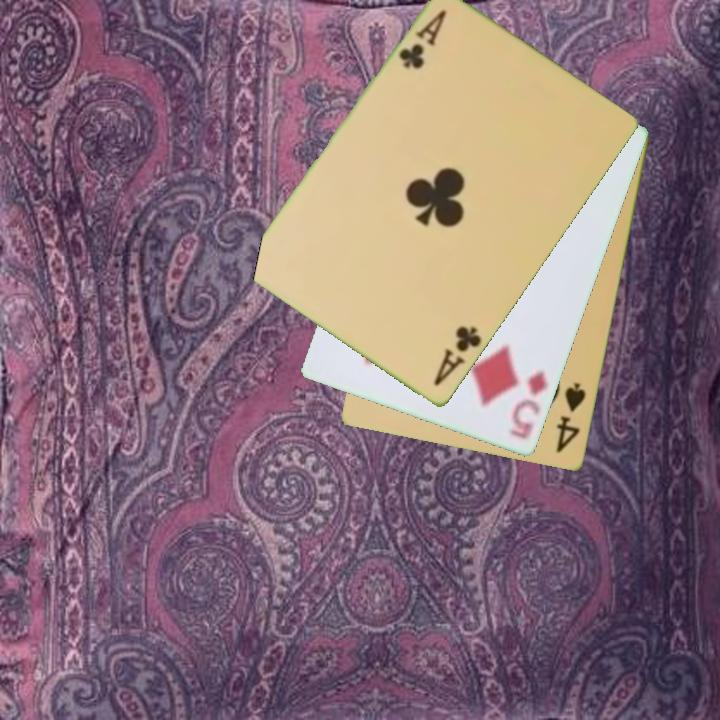4s: (553, 379, 590, 456)
5d: (506, 367, 551, 443)
Ac: (430, 322, 485, 389), (395, 7, 450, 73)
